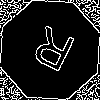R: (25, 25, 78, 81)
